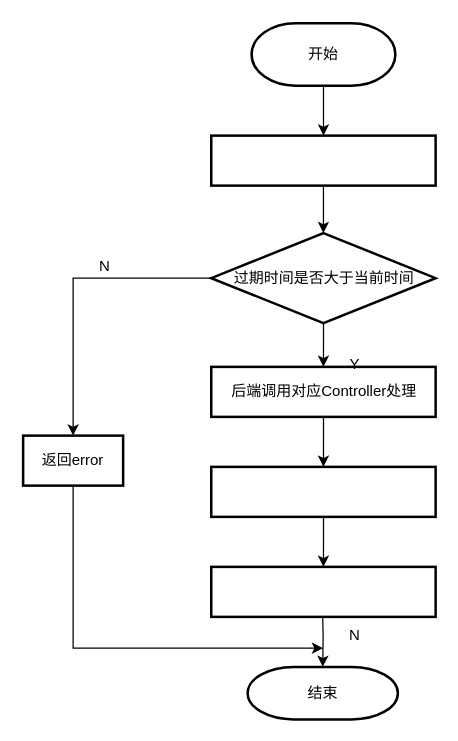
The diagram is 458 pixels wide and 741 high, and some of its shapes have lost their labels. The centre of each missing label's shape, as x and y in pixels:
"前端提交处理申请表单" goes at (x=322, y=160).
"向区块链发送更新申请的请求" goes at (x=322, y=491).
"处理区块链返回的结果并将处理后的结果响应给前端" goes at (x=322, y=591).
